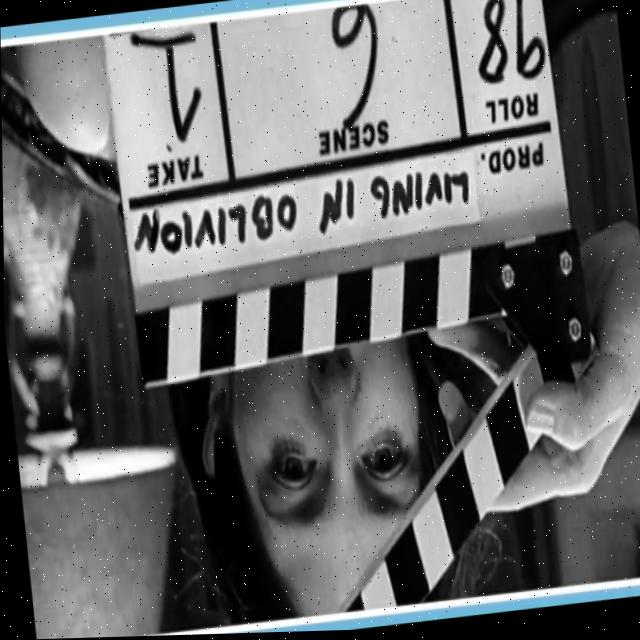Clapperboard: (102, 0, 592, 614)
